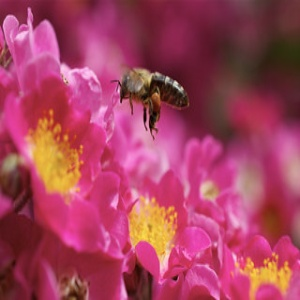bee: (112, 59, 190, 135)
